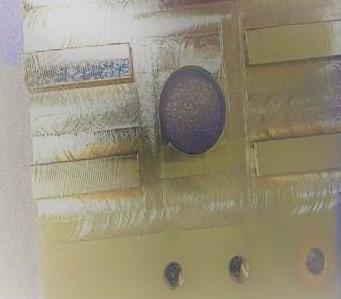hole: (300, 237, 333, 281), (158, 256, 190, 294), (225, 250, 256, 288)
